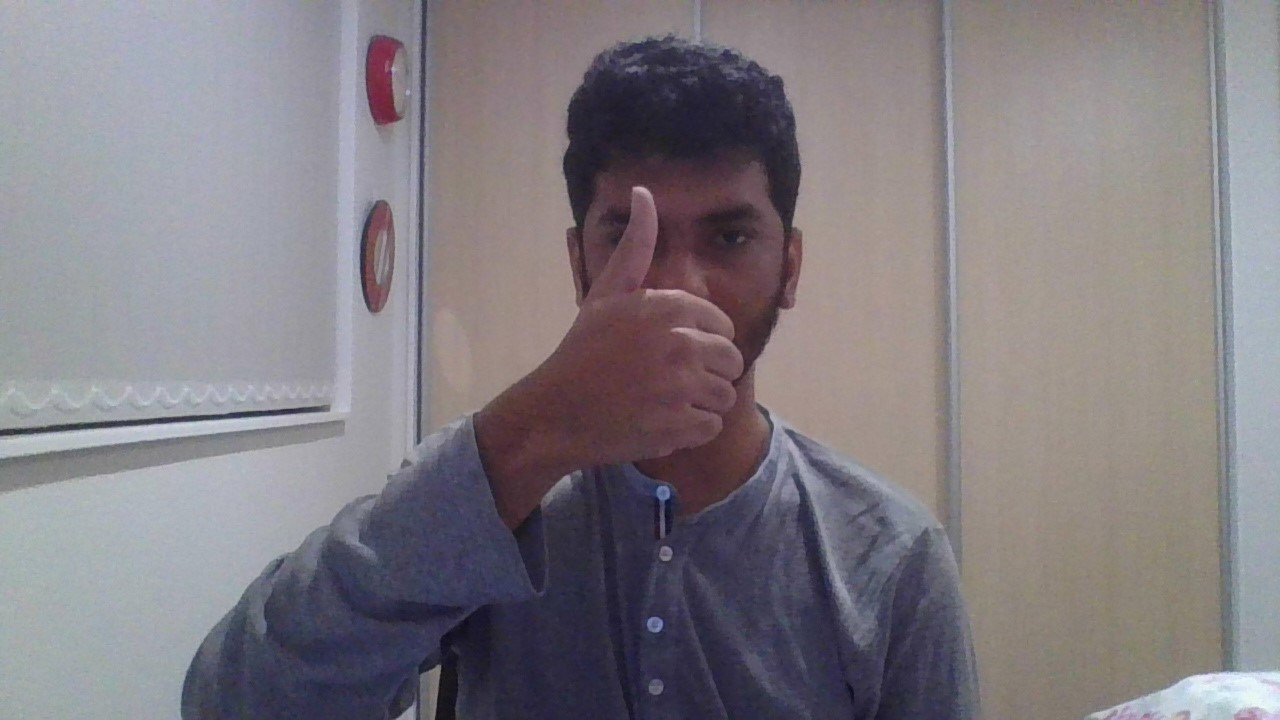good: (550, 186, 743, 467)
